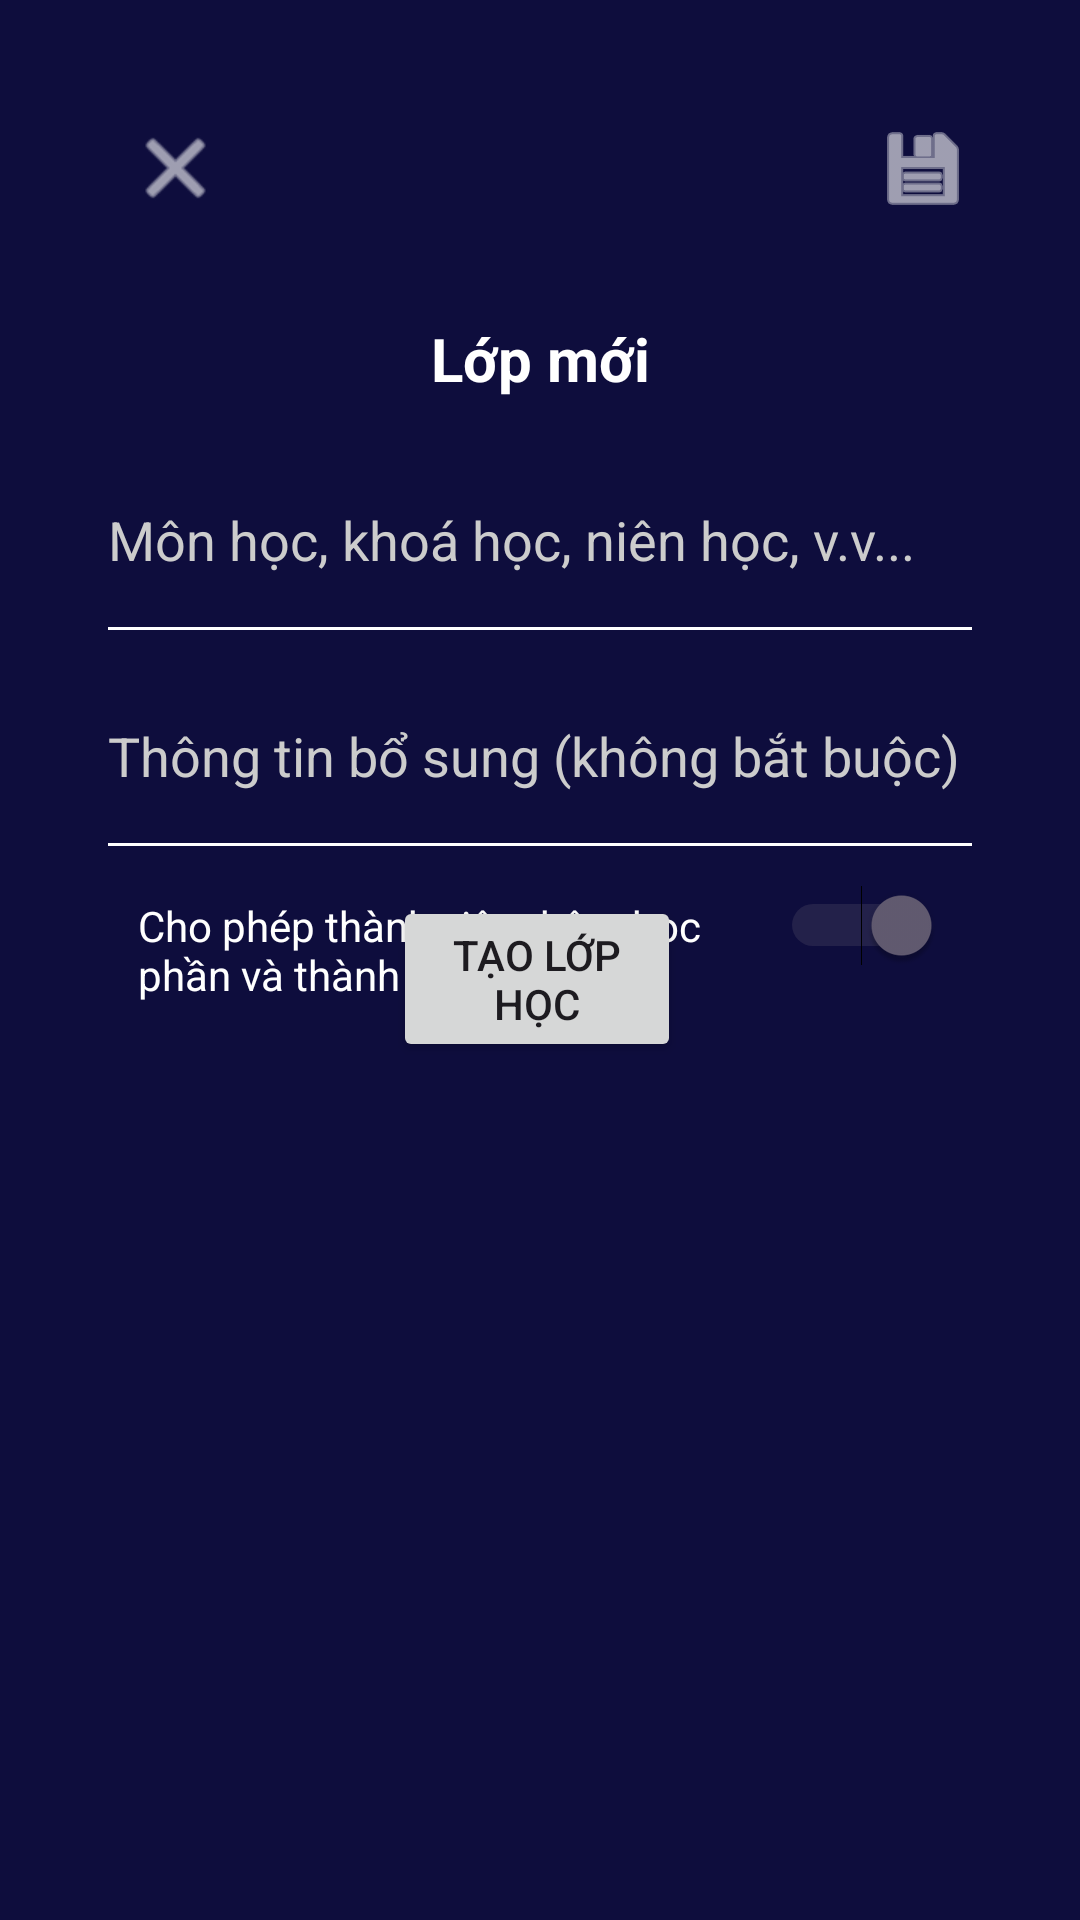

Screen size 1080px x 1920px. Icon name, then its box in pixels as (x1, y1, x2, y2):
close clear cancel: (145, 138, 206, 198)
save: (887, 132, 959, 205)
